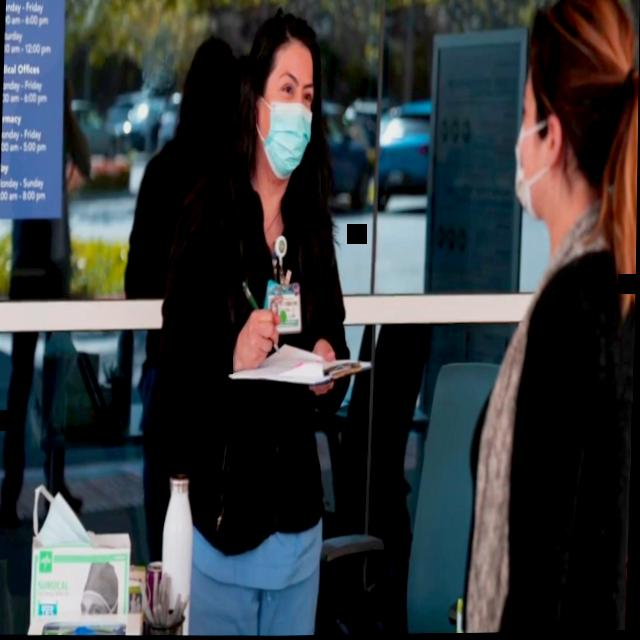Mask: (258, 38, 317, 185), (513, 69, 552, 220)
